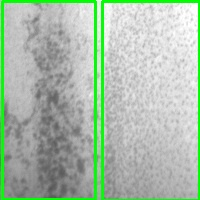pitted_surface: (102, 1, 199, 200), (2, 1, 95, 199)
